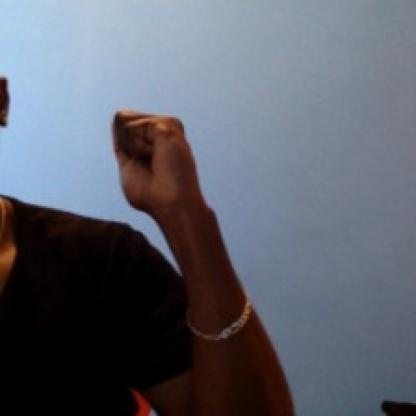BACKWARD: (102, 94, 218, 246)
